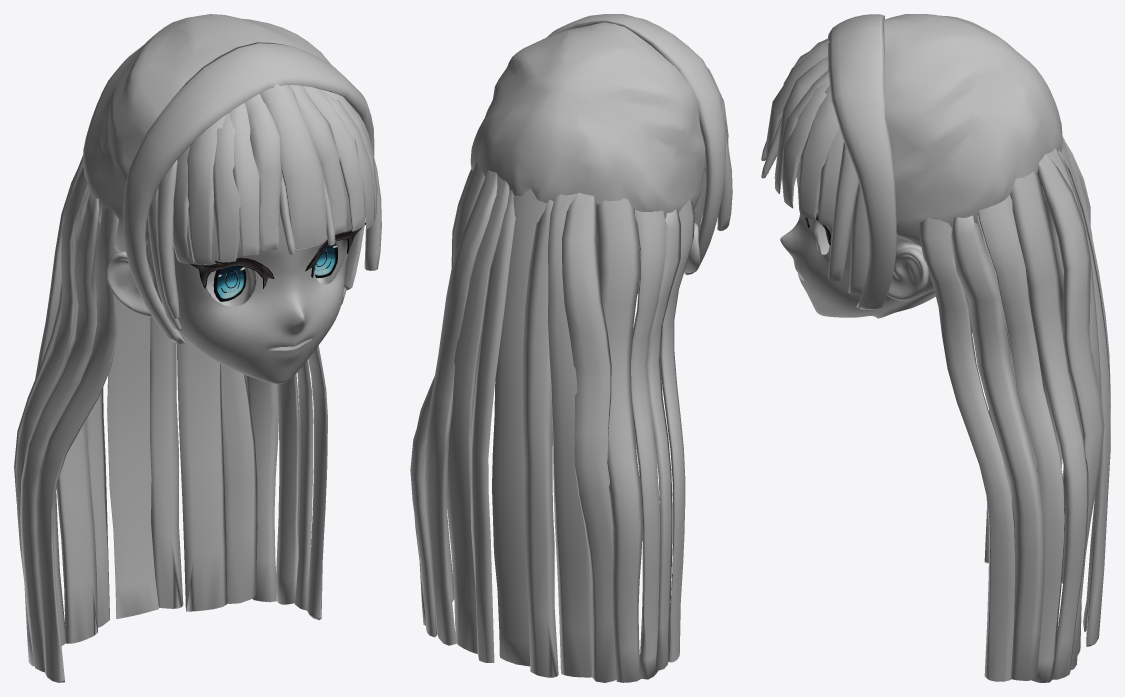
File: female_hair_neat.glb
The picture shows the model from 3 angles, left to right: view 1: azimuth 30°, elevation 25°; view 2: azimuth 150°, elevation 25°; view 3: azimuth 270°, elevation 25°; orthographic projection. The views are drawn at different scales.
Parts seen in each view (by area): view 1: hair_11, face_1, hair_9, face_0, hair_17, hair_10, hair_16, hair_12, hair_15, hair_13, hair_6, hair_14 (+11 smaller); view 2: face_0, hair_13, hair_11, hair_12, hair_14, hair_10, hair_15, hair_16, hair_9, hair_17, hair_0, face_1; view 3: face_0, hair_16, hair_17, hair_14, hair_15, hair_9, hair_13, face_1, hair_12, hair_3, hair_0, hair_2 (+7 smaller).
Boxes of the visible parts, x1,y1,x2,y2 form: hair_11: (56,192,227,643); face_1: (106,185,351,384); hair_9: (123,42,374,343); face_0: (82,14,330,252); hair_17: (36,208,327,682); hair_10: (107,247,158,618); hair_16: (20,190,313,672); hair_12: (86,221,183,627); hair_15: (15,165,299,666); hair_13: (35,171,257,645); hair_6: (244,85,346,250); hair_14: (14,156,278,602); face_0: (470,22,705,244); hair_13: (425,170,616,682); hair_11: (447,174,591,677); hair_12: (470,190,558,677); hair_14: (410,162,642,682); hair_10: (492,188,546,666); hair_15: (414,169,666,679); hair_16: (422,208,680,670); hair_9: (547,14,725,275); hair_17: (447,199,694,662); hair_0: (717,137,732,230); face_1: (637,171,706,294); face_0: (884,14,1062,246); hair_16: (951,215,1045,680); hair_17: (919,217,1014,681); hair_14: (1010,171,1088,679); hair_15: (977,195,1065,682); hair_9: (828,14,896,309); hair_13: (1037,142,1104,669); face_1: (780,166,935,318); hair_12: (1058,141,1110,646); hair_3: (798,85,839,220); hair_0: (828,142,858,281); hair_2: (782,41,829,208).
Size of the model in its own units: 0.3207 by 0.7098 by 0.3723.
24 materials, 2 textured.
